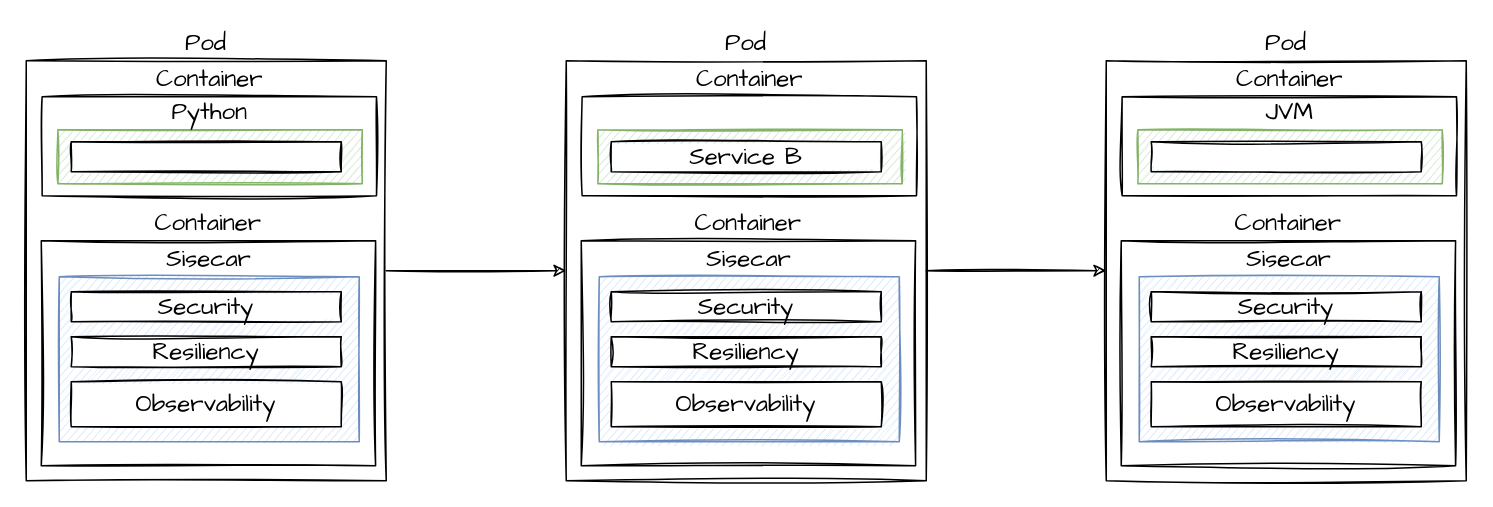
Image size: 1493x507. Some labels were removed from this diagram. Here are the shapes that lost their labels. From the top down, the box of each, then its label:
(70, 140, 341, 172): Service A
(596, 128, 902, 184): Deno
(1150, 140, 1421, 172): Service C
